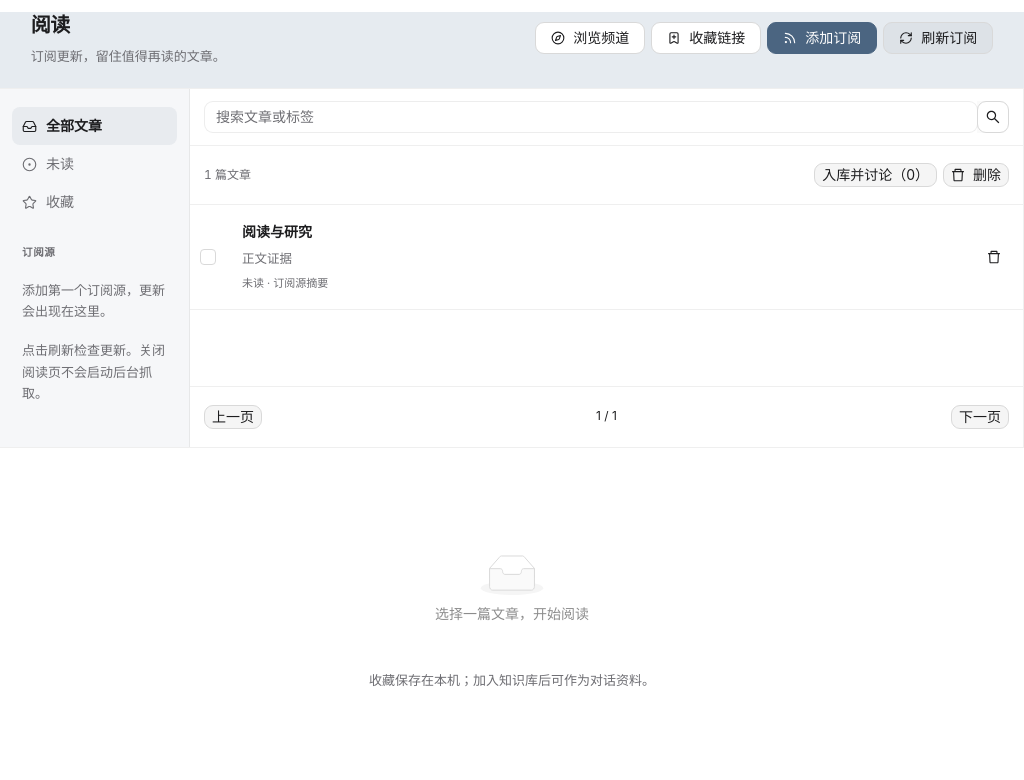
Test case: Reading library › does not navigate to discussion when knowledge ingestion fails
(page scrolled)
Click the button "阅读与研究 正文证据 未读 · 订阅源摘要": [277, 232] box [232,209,975,305]
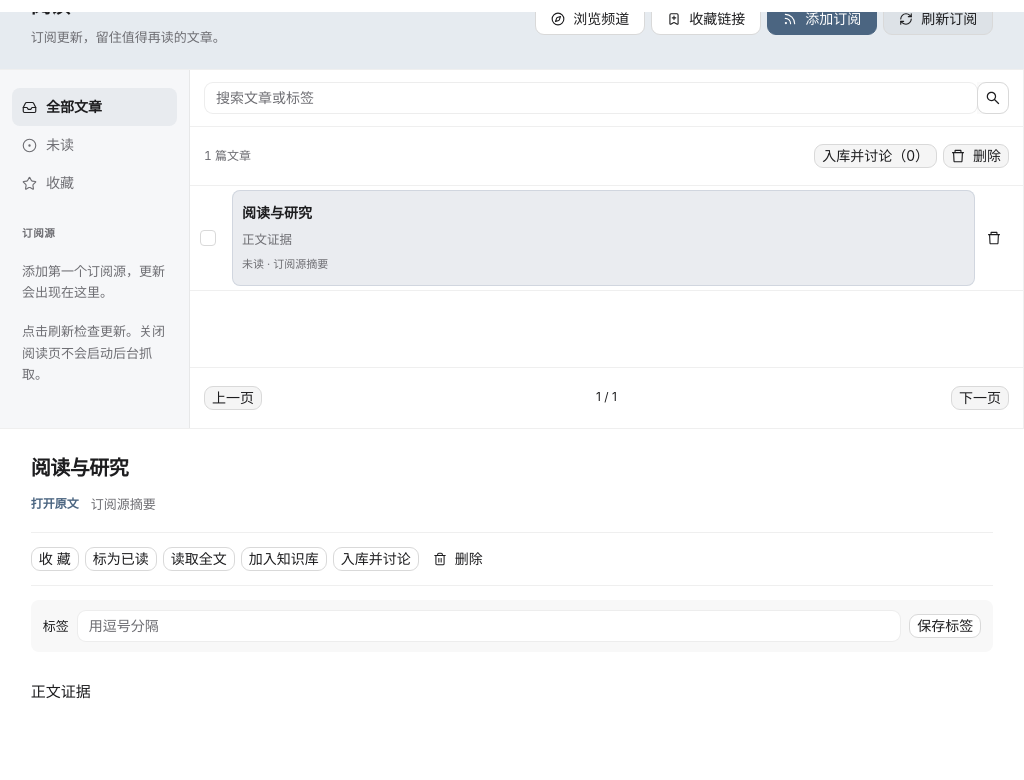
Expected: the heading "阅读与研究" is shown, [31,456,128,480]
Click the button "入库并讨论": [376, 559] box [333,547,419,571]
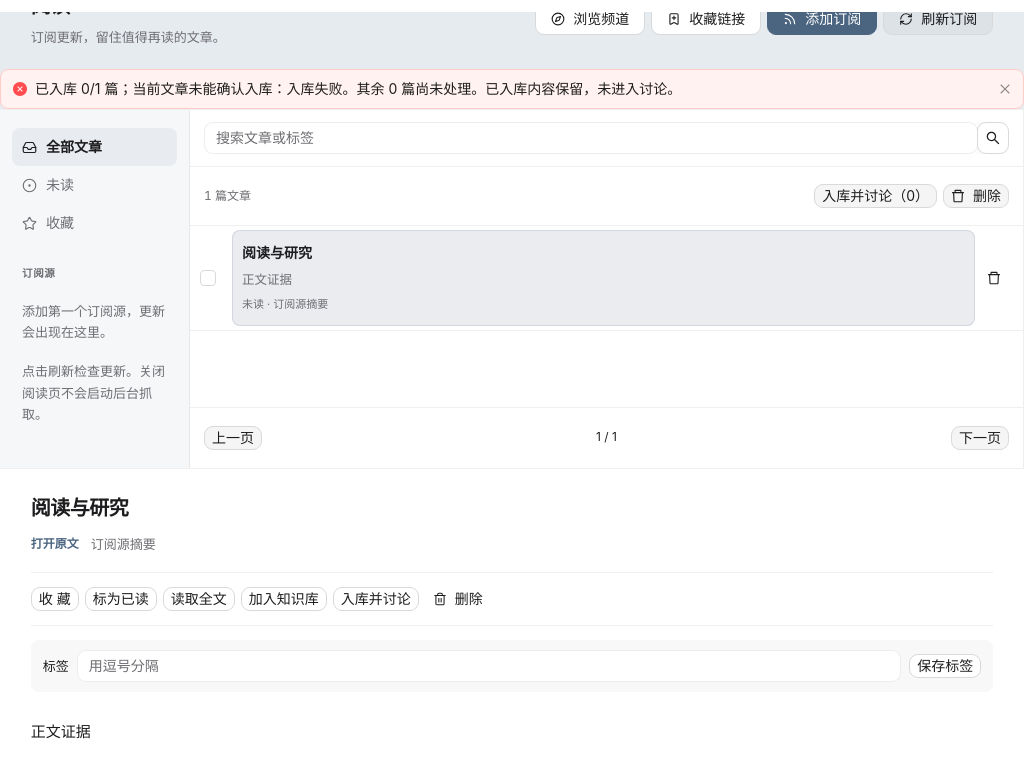
Expected: the text "已入库 0/1 篇；当前文章未能确认入库：入库失败。其余 0 篇尚未处理。已入库内容保留，未进入讨论。" is shown, [35,80,681,97]
